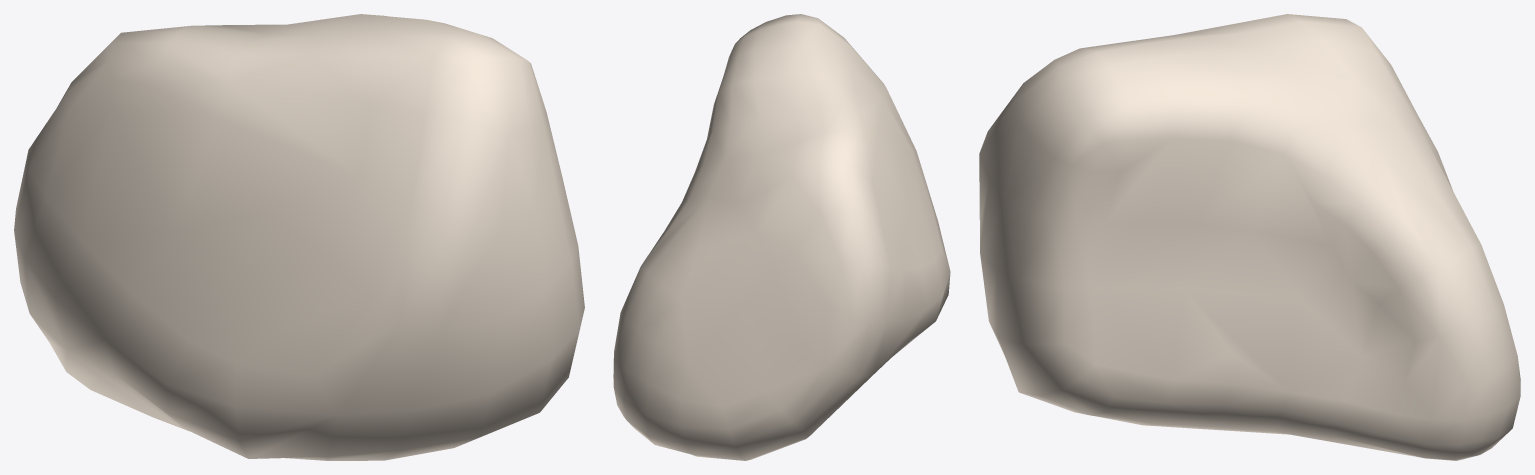
The model's file is right_trapezoid.glb.
The picture shows the model from 3 angles, left to right: view 1: azimuth 30°, elevation 25°; view 2: azimuth 150°, elevation 25°; view 3: azimuth 270°, elevation 25°; orthographic projection. The views are drawn at different scales.
Parts seen in each view (by area): view 1: Trapezoid.r; view 2: Trapezoid.r; view 3: Trapezoid.r.
Boxes of the visible parts, box(x1,y1,x2,y2) form: Trapezoid.r: box(14, 14, 584, 460); Trapezoid.r: box(613, 14, 950, 460); Trapezoid.r: box(979, 14, 1520, 460).
Bounding box in the file's own units: 0.00866 × 0.00989 × 0.0116.
